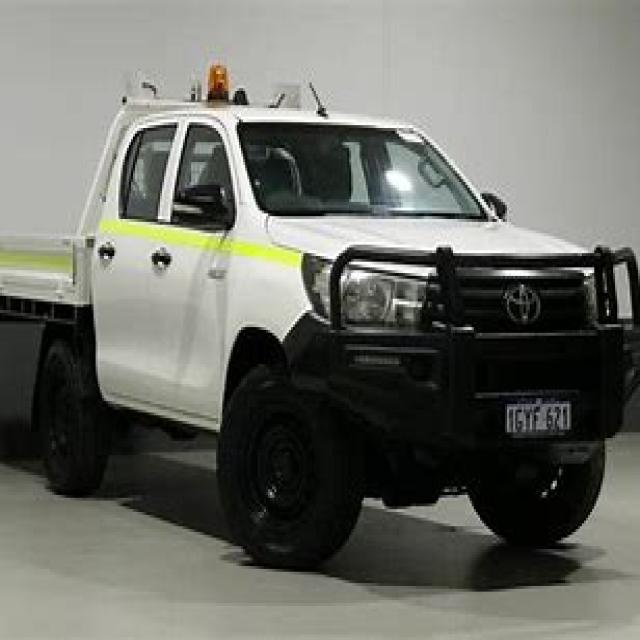light_vehicle: (2, 85, 638, 572)
